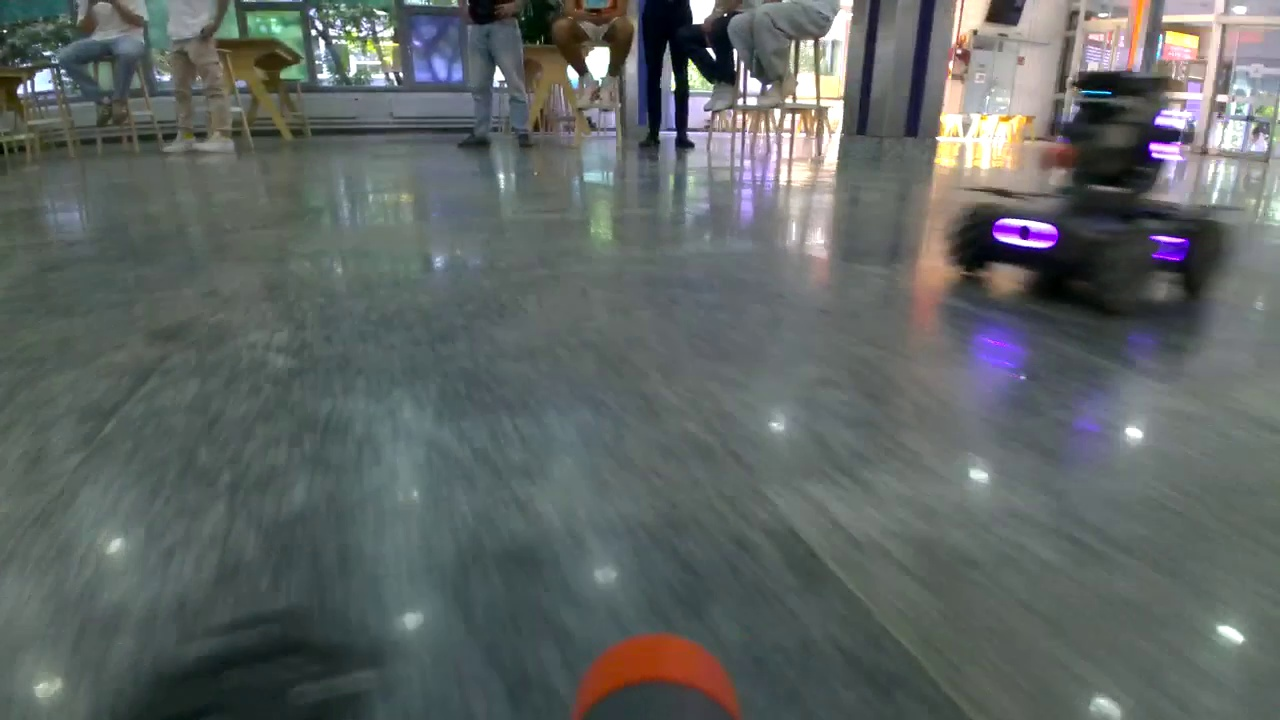robot: (946, 69, 1228, 322)
